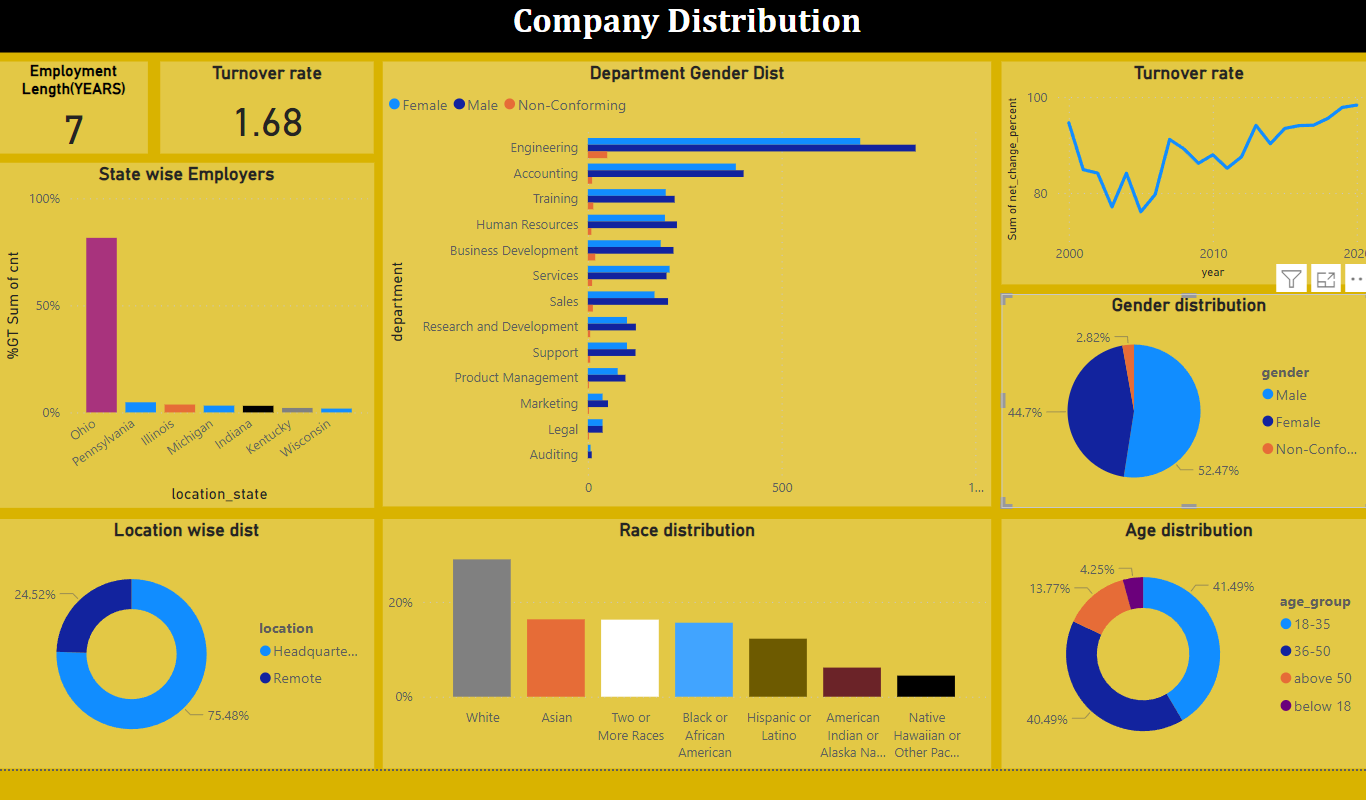

This screenshot's page, from the dashboard's own definition file:
{"tool":"powerbi","page":{"name":"Page 1","canvas":[1280,720],"ordinal":0},"visuals":[{"type":"textbox","box":[0,0,1279.5,54.3],"z":0},{"type":"card","title":"Employment Length(YEARS)","fields":{"Values":["Sum(termination_time.avg_term_time)"]},"box":[0,62.7,138.3,86],"z":1000},{"type":"donutChart","title":"Location wise dist","fields":{"Category":["location.location"],"Y":["Sum(location.count(*))"]},"box":[0,488,348.6,232.4],"z":2000},{"type":"clusteredBarChart","title":"Department Gender Dist","fields":{"Y":["Sum(gender in dept dist.count(*))"],"Category":["gender in dept dist.department"],"Series":["gender in dept dist.gender"]},"box":[356.7,62.7,565.9,413.7],"z":3000},{"type":"lineChart","title":"Turnover rate","fields":{"Category":["hires_and_termintion.year"],"Y":["Sum(hires_and_termintion.net_change_percent)"]},"box":[931.9,62.7,348.6,206.8],"z":4000},{"type":"donutChart","title":"Age distribution","fields":{"Category":["age_dist.age_group"],"Y":["Sum(age_dist.count(*))"]},"box":[931.9,488,348.6,232.4],"z":5000},{"type":"clusteredColumnChart","title":"Race distribution","fields":{"Y":["Sum(race.count(*))"],"Category":["race.race"]},"box":[356.7,488,565.9,232.4],"z":6000},{"type":"clusteredColumnChart","title":"State wise Employers","fields":{"Category":["location_state_dist.location_state"],"Y":["Sum(location_state_dist.cnt)"]},"box":[0,156.9,348.6,320.7],"z":7000},{"type":"pieChart","title":"Gender distribution","fields":{"Category":["gender.gender"],"Y":["Sum(gender.count)"]},"box":[931.9,278.9,348.6,198.7],"z":8000},{"type":"card","title":"Turnover rate","fields":{"Values":["Sum(turnover_rate.turnover_rate)"]},"box":[149.9,62.7,198.7,86],"z":9000}]}

Visuals, with their boxes on the page's 1280x720 design canvas (x1, y1, x2, y2). These are canvas units, not pixel positions in the 1366x800 screenshot, which may show the page scaled, cropped or inside an application window:
textbox: locate(0, 0, 1280, 54)
"Employment Length(YEARS)" card: locate(0, 63, 138, 149)
"Location wise dist" donutChart: locate(0, 488, 349, 720)
"Department Gender Dist" clusteredBarChart: locate(357, 63, 923, 476)
"Turnover rate" lineChart: locate(932, 63, 1280, 270)
"Age distribution" donutChart: locate(932, 488, 1280, 720)
"Race distribution" clusteredColumnChart: locate(357, 488, 923, 720)
"State wise Employers" clusteredColumnChart: locate(0, 157, 349, 478)
"Gender distribution" pieChart: locate(932, 279, 1280, 478)
"Turnover rate" card: locate(150, 63, 349, 149)
